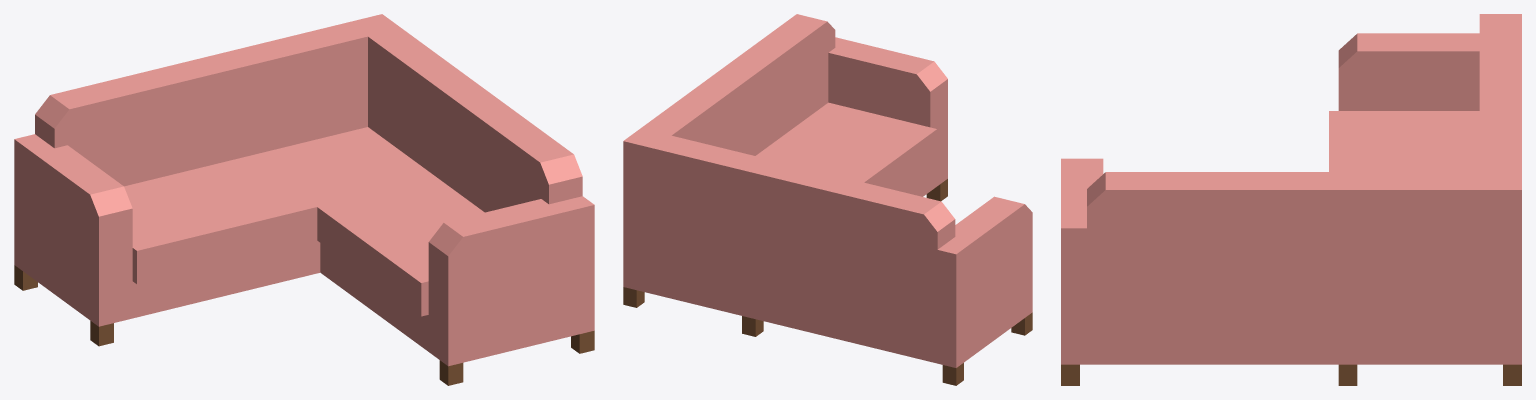
Rendered from m_sofa_corner.glb.
3 views of the same model, side by side, from view 1: azimuth 30°, elevation 25°; view 2: azimuth 150°, elevation 25°; view 3: azimuth 270°, elevation 25° (orthographic). The views are drawn at different scales.
Visible parts, largest first — view 1: loungeSofaCorner(Clone); view 2: loungeSofaCorner(Clone); view 3: loungeSofaCorner(Clone).
Boxes of the visible parts, x1,y1,x2,y2 form: loungeSofaCorner(Clone): [14, 14, 594, 385]; loungeSofaCorner(Clone): [623, 14, 1032, 385]; loungeSofaCorner(Clone): [1061, 14, 1521, 385].
Bounding box in the file's own units: 1.81 × 0.85 × 1.81.
